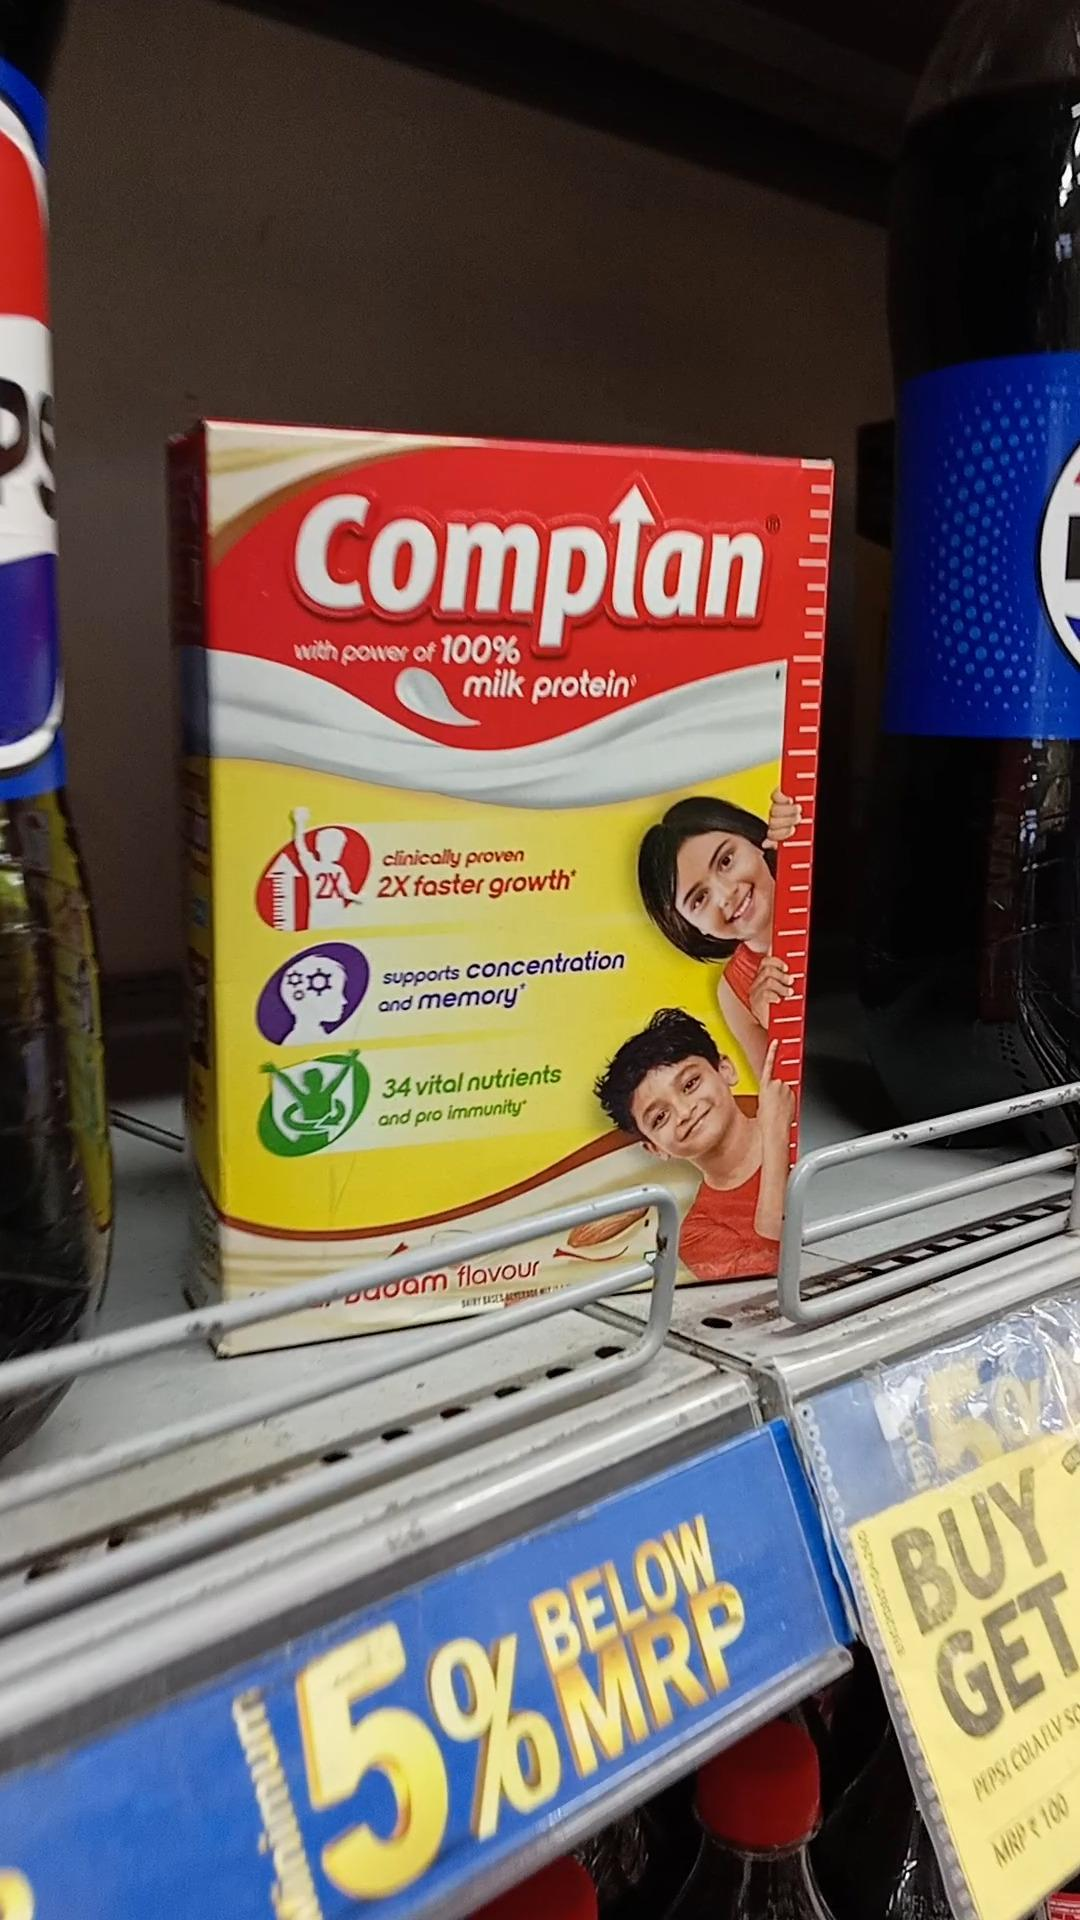COMPLAN_CHOCOLATE_200_GMS_JAR: (223, 417, 799, 1315)
